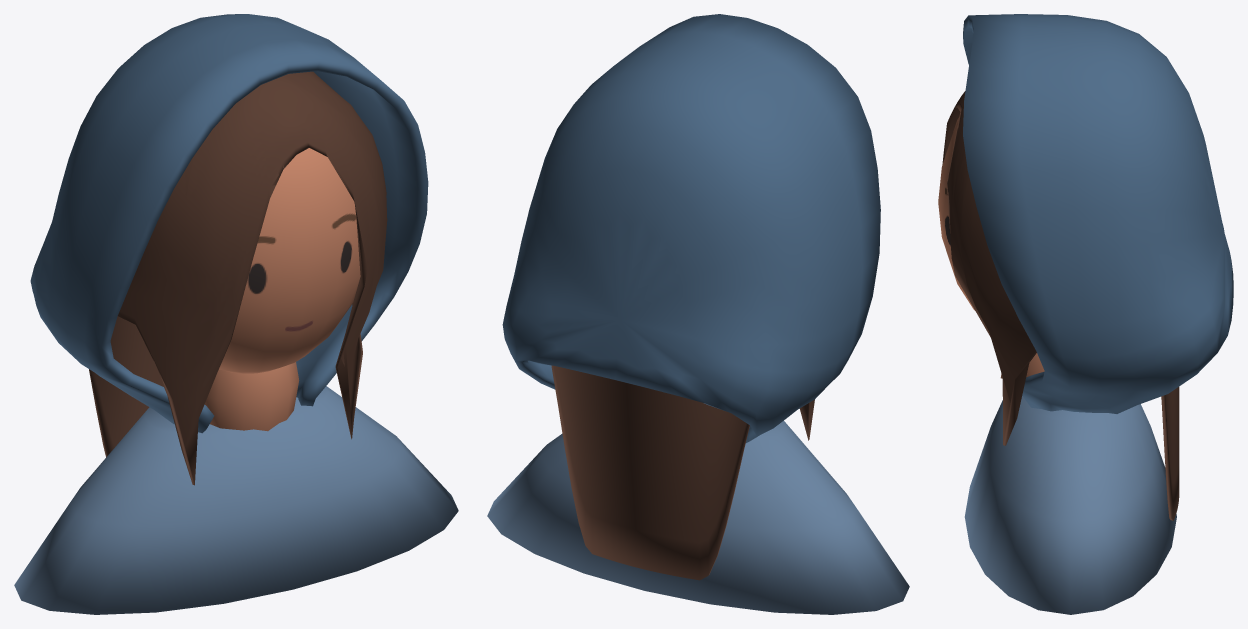
File: traveller_painted.glb
3 renders of one model, left to right at view 1: azimuth 30°, elevation 25°; view 2: azimuth 150°, elevation 25°; view 3: azimuth 270°, elevation 25°, orthographic. The views are drawn at different scales.
Parts seen in each view (by area): view 1: TravellerBody, Hood, HairCap.Long, Head, Neck; view 2: Hood, TravellerBody, HairCap.Long; view 3: Hood, TravellerBody, HairCap.Long, Head.
Part boxes in pixels (x1,y1,x2,y2): TravellerBody: (14,386,458,614); Hood: (30,14,428,433); HairCap.Long: (89,71,387,485); Head: (219,148,360,373); Neck: (204,362,299,431); Hood: (502,14,880,442); TravellerBody: (487,420,909,614); HairCap.Long: (551,365,814,580); Hood: (963,14,1233,413); TravellerBody: (964,396,1176,614); HairCap.Long: (942,91,1179,520); Head: (938,117,974,310).
Size of the model in its own units: 2.1 by 2.44 by 1.34.
2 materials, 2 textured.
